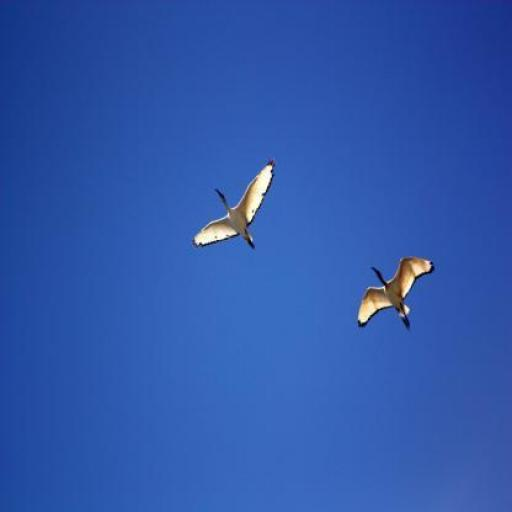bird: (193, 158, 276, 249), (356, 255, 435, 329)
